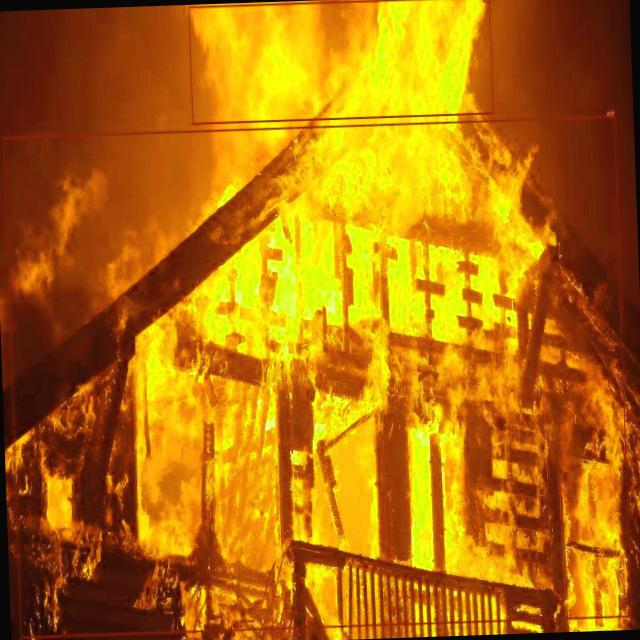fire: (3, 115, 632, 638), (188, 0, 494, 123)
